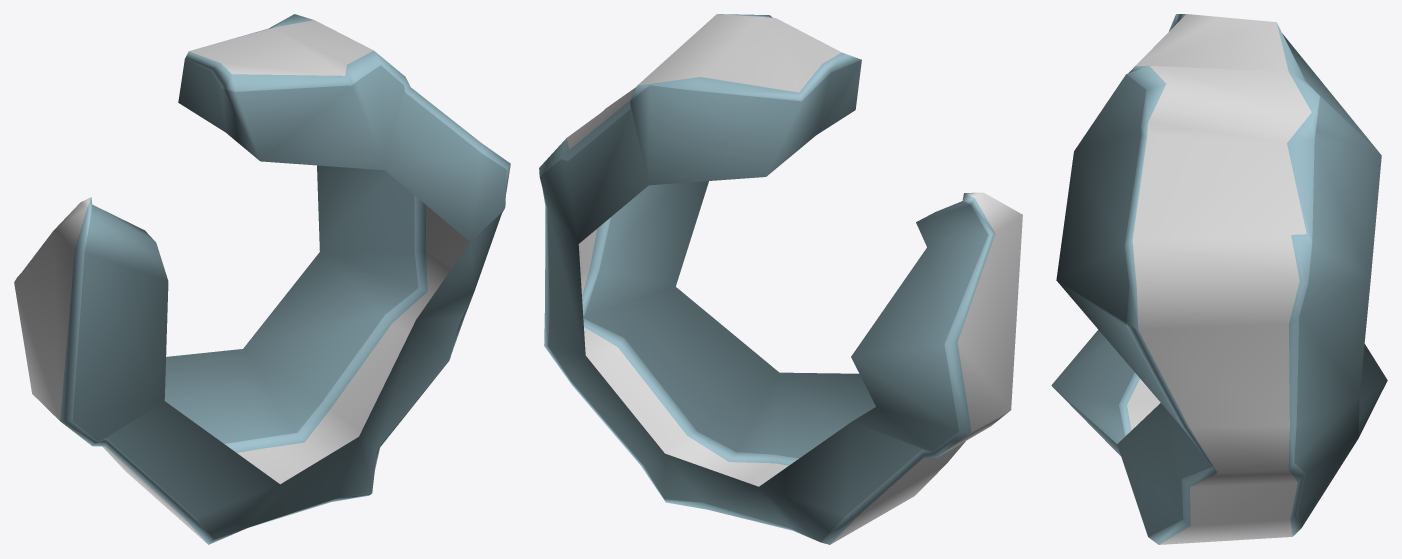
File: LighthouseIceSheetBack.fbx
3 renders of one model, left to right at view 1: azimuth 30°, elevation 25°; view 2: azimuth 150°, elevation 25°; view 3: azimuth 270°, elevation 25°, orthographic. The views are drawn at different scales.
Parts seen in each view (by area): view 1: LighthouseIceSheetBack; view 2: LighthouseIceSheetBack; view 3: LighthouseIceSheetBack.
Part boxes in pixels (x1,y1,x2,y2): LighthouseIceSheetBack: (14, 14, 510, 544); LighthouseIceSheetBack: (539, 14, 1022, 544); LighthouseIceSheetBack: (1051, 14, 1387, 544).
Size of the model in its own units: 271 by 270 by 176.
